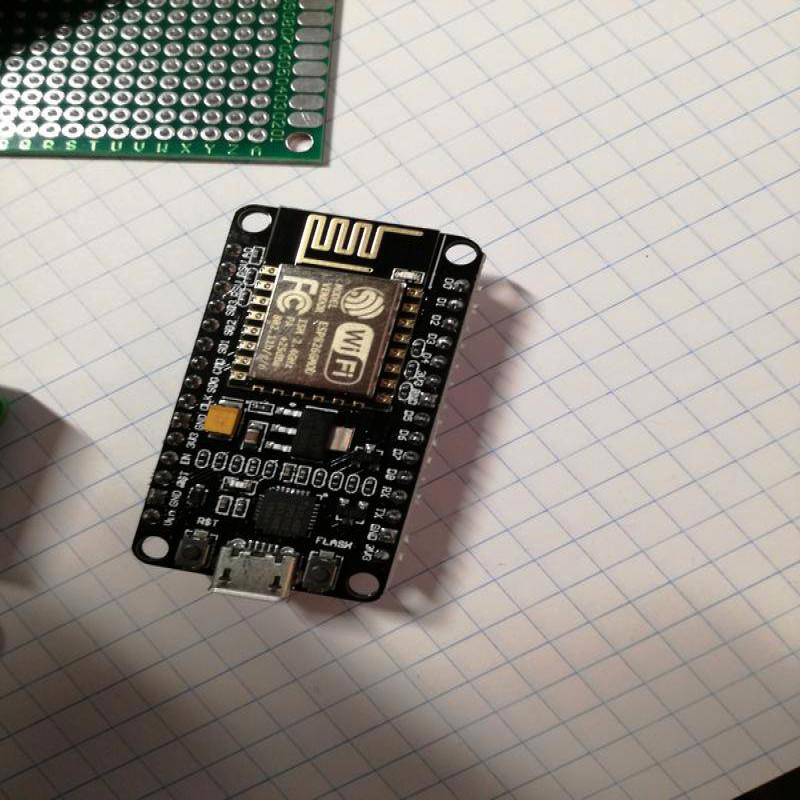ESP8266: (138, 198, 490, 608)
